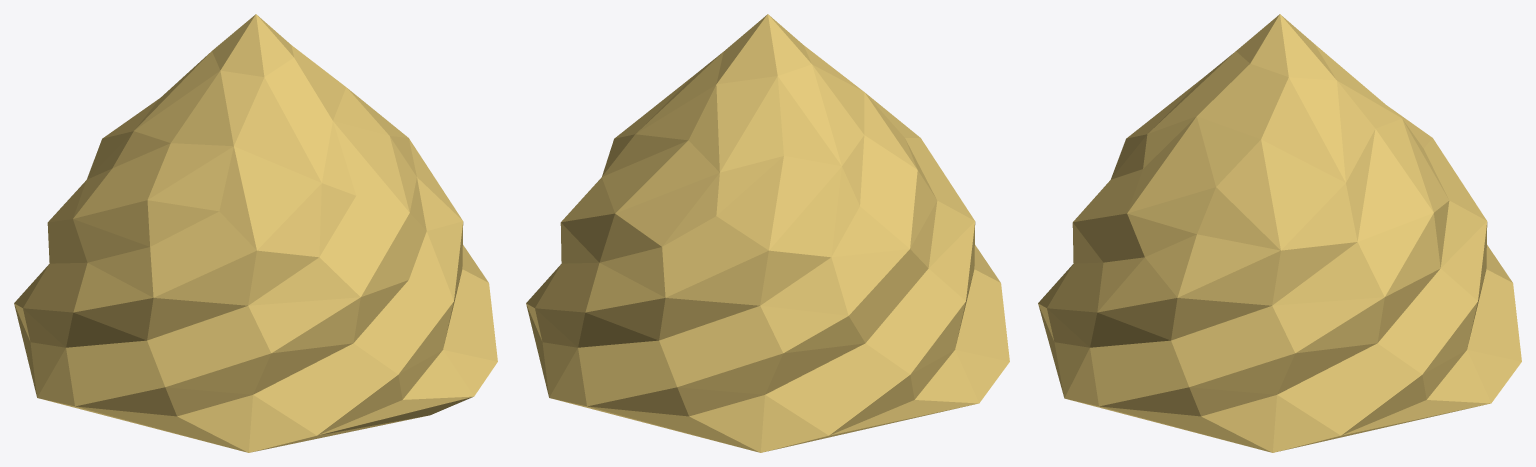
Rendered from chantilly.glb.
The picture shows the model from 3 angles, left to right: view 1: azimuth 30°, elevation 25°; view 2: azimuth 150°, elevation 25°; view 3: azimuth 270°, elevation 25°; orthographic projection.
Parts seen in each view (by area): view 1: chantilly.001; view 2: chantilly.001; view 3: chantilly.001.
Part boxes in pixels (<box>): chantilly.001: <box>14,14,497,452</box>; chantilly.001: <box>526,14,1009,452</box>; chantilly.001: <box>1038,14,1521,452</box>.
Bounding box in the file's own units: 3.19 × 2.4 × 3.11.
